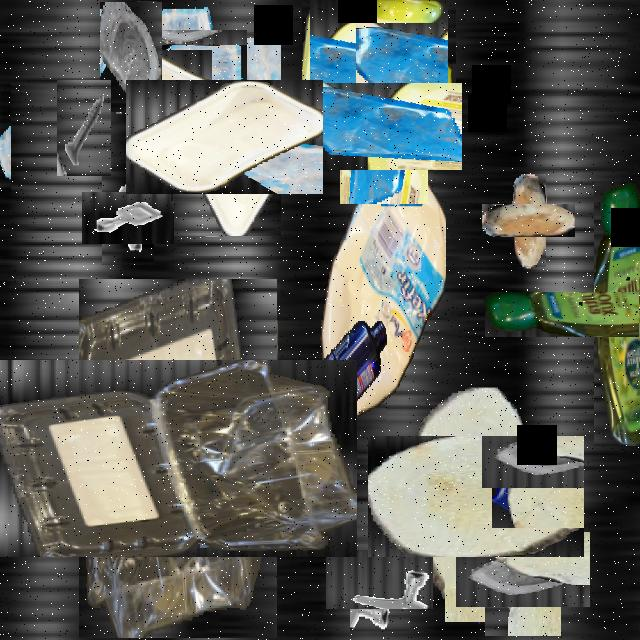glass: (323, 65, 445, 187), (470, 516, 576, 622), (191, 426, 267, 562), (133, 16, 233, 116), (445, 512, 507, 622), (100, 2, 162, 112), (0, 84, 11, 194)
metal: (338, 538, 422, 621), (92, 182, 164, 255), (57, 80, 111, 176)
plastic: (39, 319, 317, 598), (316, 153, 446, 462), (146, 59, 302, 215), (306, 0, 452, 144), (276, 322, 386, 468), (539, 237, 640, 391)
wood: (392, 411, 560, 581), (497, 189, 561, 252)
